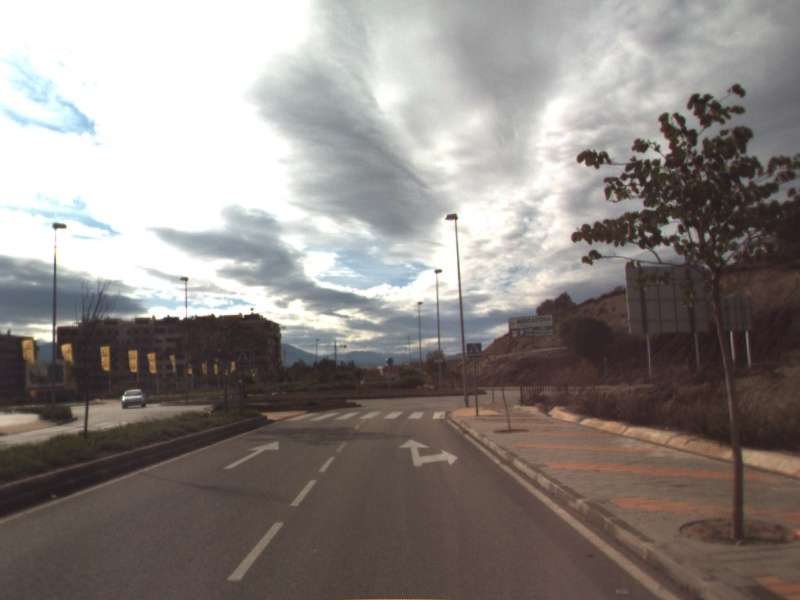STRAIGHT: (221, 439, 281, 471)
STRAIGHT_RIGHT: (397, 436, 461, 468)
